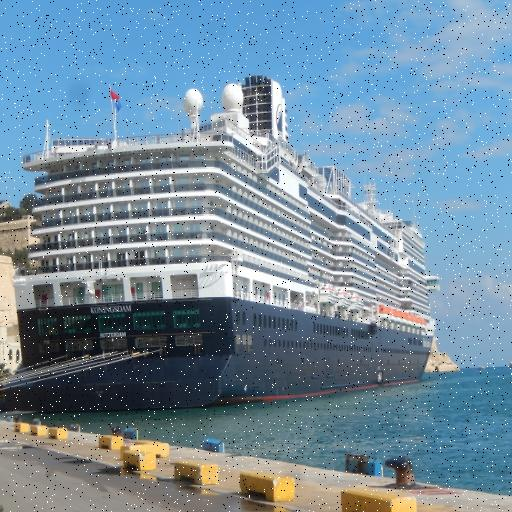cruises: (10, 72, 444, 419)
